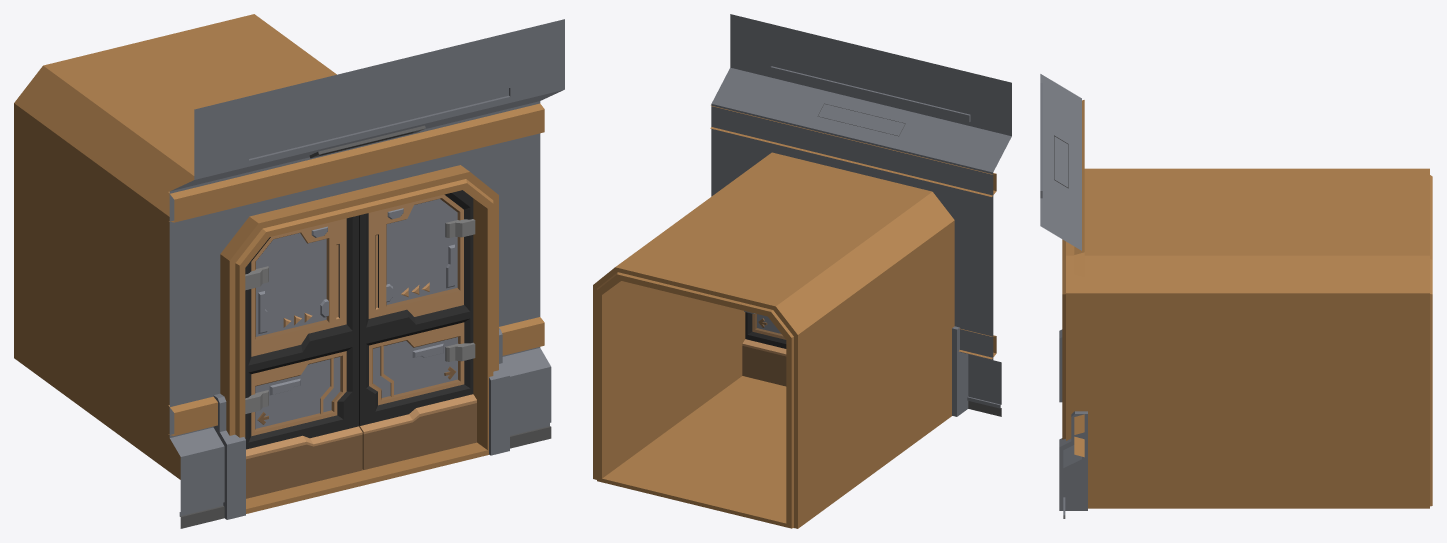
File: elevator.fbx
3 views of the same model, side by side, from view 1: azimuth 30°, elevation 25°; view 2: azimuth 150°, elevation 25°; view 3: azimuth 270°, elevation 25° (orthographic). The views are drawn at different scales.
Visible parts, largest first — view 1: DoorDoubleLong_Wall_SideA, Door_Double.R, Door_Double.L; view 2: DoorDoubleLong_Wall_SideA, Door_Double.R; view 3: DoorDoubleLong_Wall_SideA.
Boxes of the visible parts, left/top/right/bottom form: DoorDoubleLong_Wall_SideA: left=14, top=14, right=564, bottom=528; Door_Double.R: left=359, top=190, right=476, bottom=469; Door_Double.L: left=245, top=215, right=362, bottom=498; DoorDoubleLong_Wall_SideA: left=593, top=14, right=1011, bottom=528; Door_Double.R: left=742, top=311, right=786, bottom=386; DoorDoubleLong_Wall_SideA: left=1040, top=74, right=1432, bottom=518.
Bounding box in the file's own units: 400 × 444 × 435.
